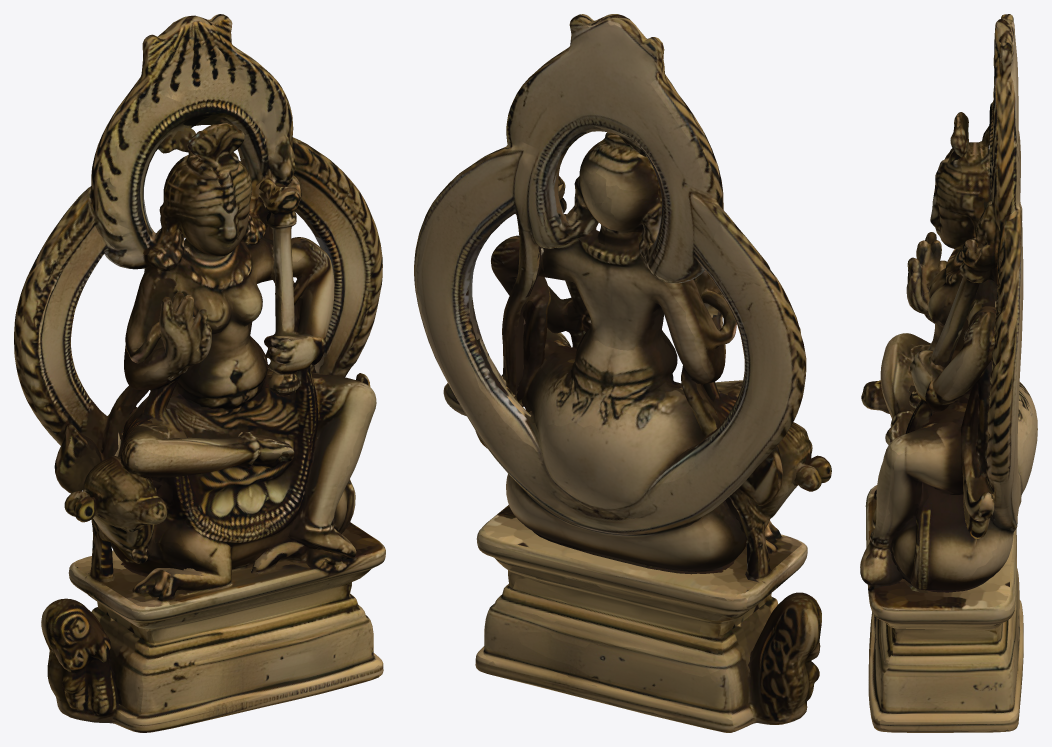
3 renders of one model, left to right at view 1: azimuth 30°, elevation 25°; view 2: azimuth 150°, elevation 25°; view 3: azimuth 270°, elevation 25°, orthographic. The views are drawn at different scales.
Parts seen in each view (by area): view 1: textured_mesh; view 2: textured_mesh; view 3: textured_mesh.
Part boxes in pixels (bbox=[...]): textured_mesh: bbox=[14, 14, 385, 732]; textured_mesh: bbox=[414, 14, 831, 732]; textured_mesh: bbox=[860, 14, 1037, 732].
Bounding box in the file's own units: 1.18 × 1.99 × 0.494.
Materials: 1 (1 with a texture image).
